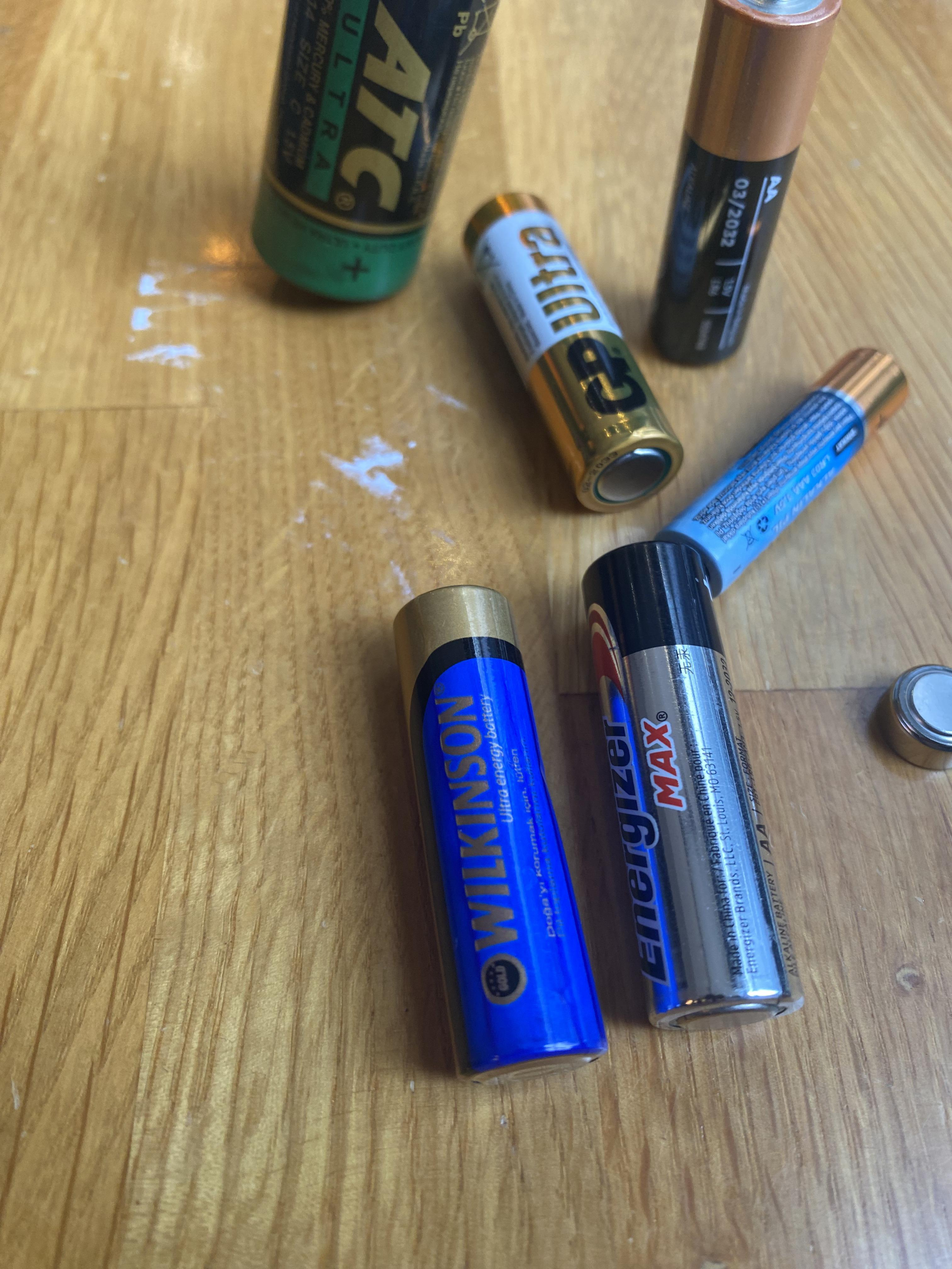AA: (384, 577, 616, 1089), (579, 532, 803, 1040), (460, 190, 687, 518)
AAA: (655, 344, 912, 604)
